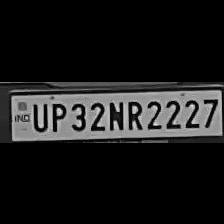2: (86, 97, 106, 130), (142, 97, 162, 130), (162, 96, 180, 128), (181, 96, 199, 128)
3: (66, 100, 86, 132)
7: (200, 96, 216, 128)
N: (106, 97, 124, 130)
P: (48, 100, 68, 132)
R: (123, 97, 143, 130)
U: (28, 100, 48, 132)
